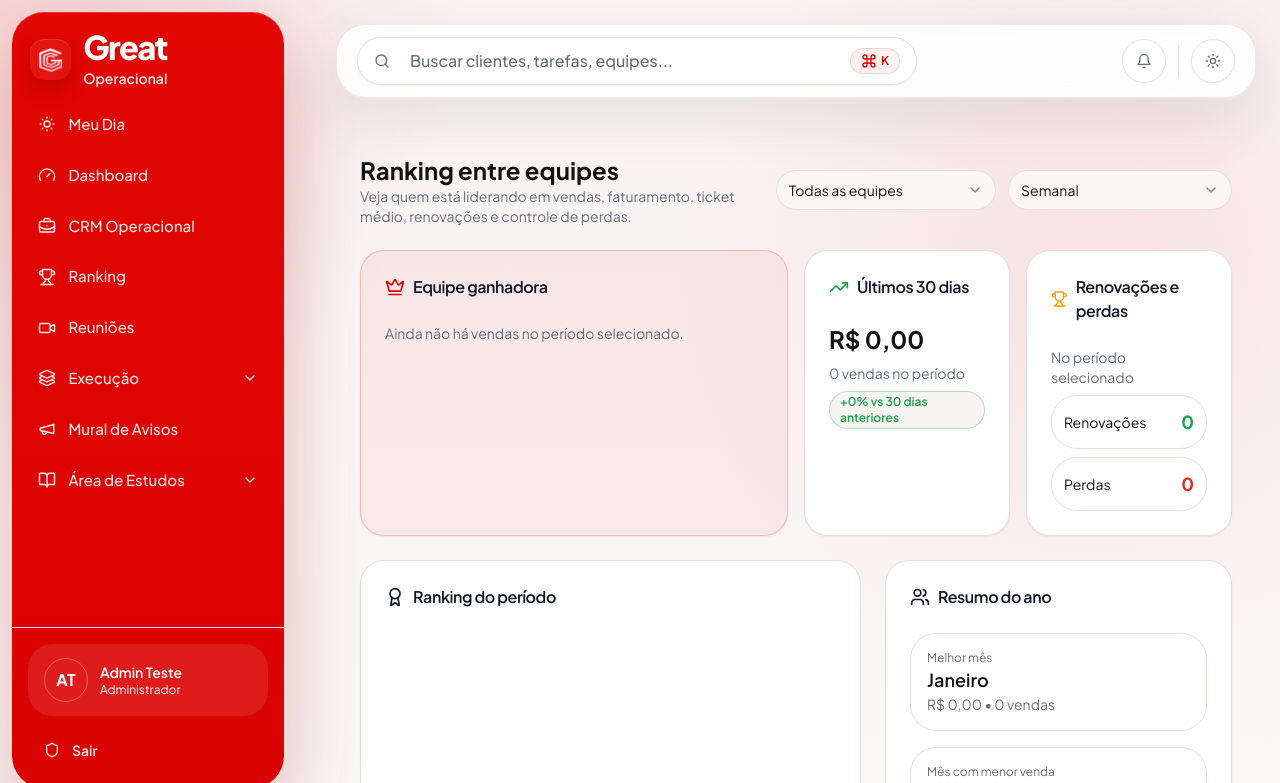
Test: Inteligência – Ranking entre equipes › trocar período para Mensal atualiza o label no select
Click the dropdown labelled "Semanal": [1120, 190] box x1=1008 y1=170 x2=1232 y2=210
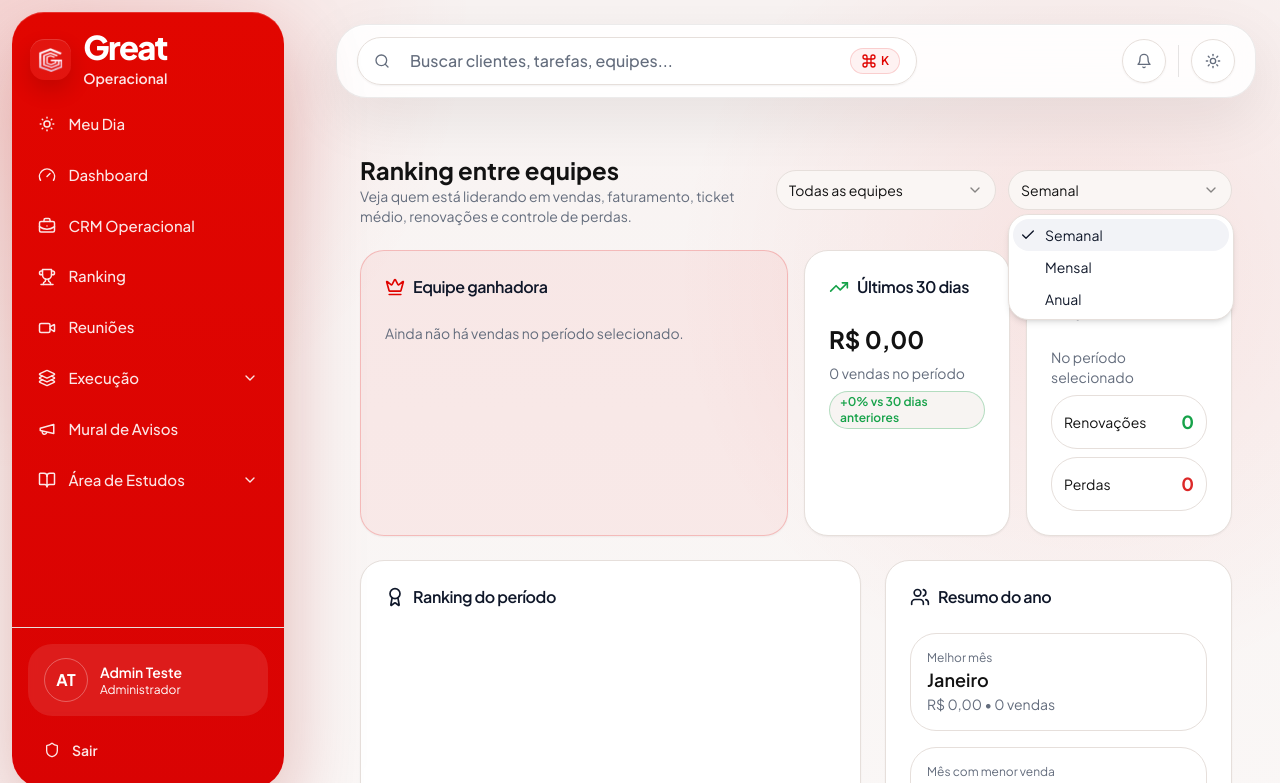
Click the option "Mensal": [1069, 267] box x1=1045 y1=258 x2=1092 y2=276
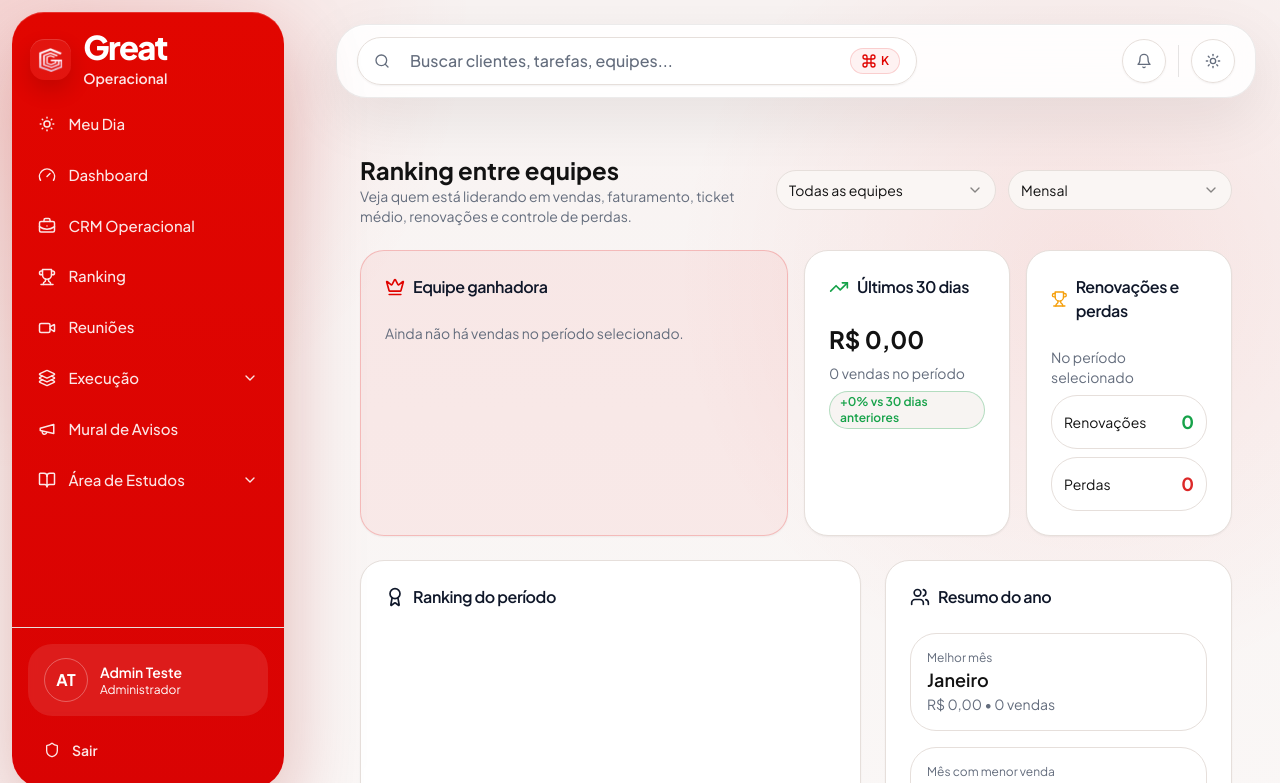
Result: the dropdown "Mensal" is shown at x1=1008 y1=170 x2=1232 y2=210
